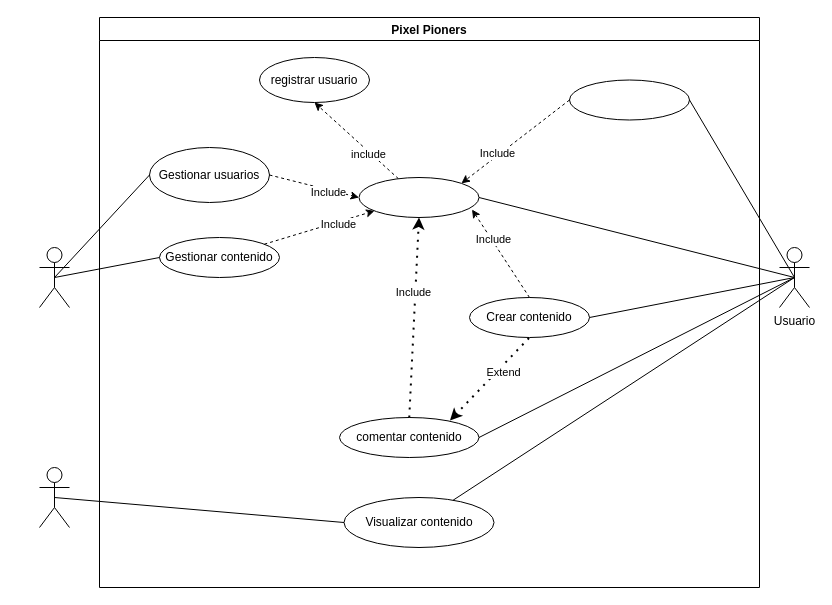
Image size: 832x605. Some labels were removed from this diagram. Each missing label, with the centre of its shape:
"Administrador" belongs at point (54, 277).
"Iniciar seccion" belongs at point (418, 197).
"Invitado" belongs at point (54, 497).
"Modificar datos personales" belongs at point (629, 99).
